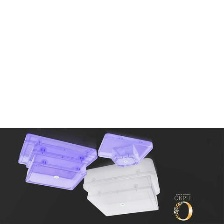plastic_box: (77, 153, 166, 220), (11, 129, 101, 195), (91, 130, 156, 171)
